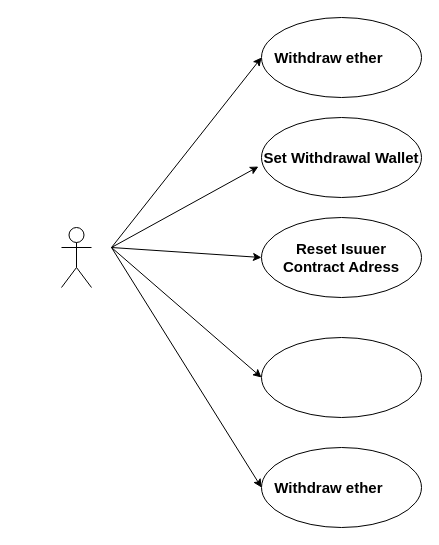
The diagram is 439 pixels wide and 545 high, and some of its shapes have lost their labels. The centre of each missing label's shape, as x and y in pixels:
Institution Smart Contract Owner: (x=76, y=257)
Reset Institution Wallet: (x=341, y=377)
